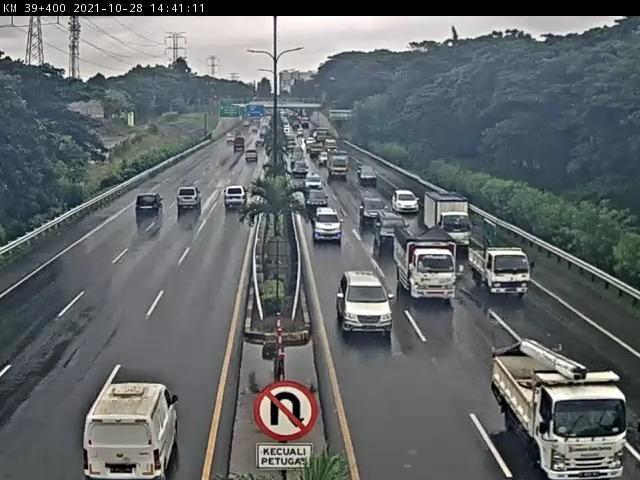car: (80, 382, 183, 480), (339, 271, 395, 332), (375, 210, 411, 248), (313, 209, 345, 246), (359, 198, 389, 226), (393, 192, 421, 215)
truck: (491, 354, 625, 480), (396, 228, 458, 304), (470, 244, 533, 298), (425, 193, 474, 250), (136, 192, 167, 219), (176, 187, 204, 212), (223, 187, 249, 212)
